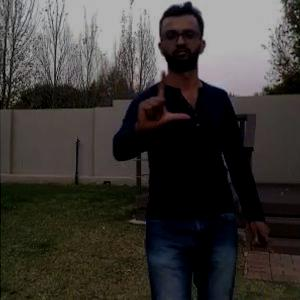land_hand: (130, 68, 191, 137)
